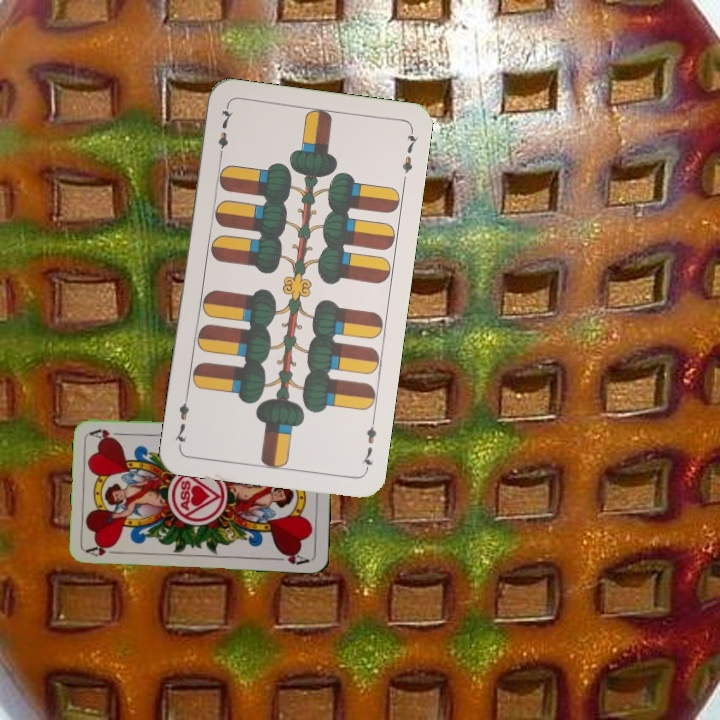E7: (214, 103, 235, 162), (358, 415, 379, 474)
HA: (83, 541, 124, 559)
